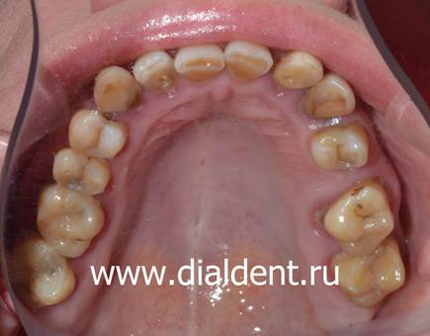UL1BC_decay: (313, 118, 364, 171)
UL1M_decay: (328, 188, 394, 254)
UL2M_healthy: (343, 243, 404, 303)
ULCI_decay: (222, 43, 270, 81)
ULC_decay: (300, 76, 349, 121)
ULLI_decay: (271, 60, 317, 89)
UR1BC_decay: (68, 110, 131, 159)
UR1M_healthy: (36, 187, 105, 259)
UR2BC_decay: (53, 151, 110, 196)
UR2M_decay: (13, 240, 75, 304)
URCI_decay: (176, 50, 225, 84)
URC_decay: (93, 71, 142, 117)
URLI_decay: (136, 58, 178, 93)
